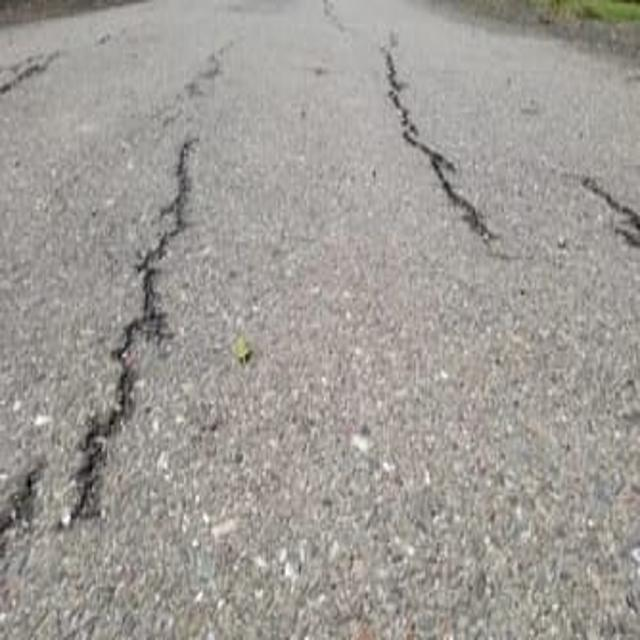Memanjang: (51, 133, 205, 535), (369, 37, 515, 265)
